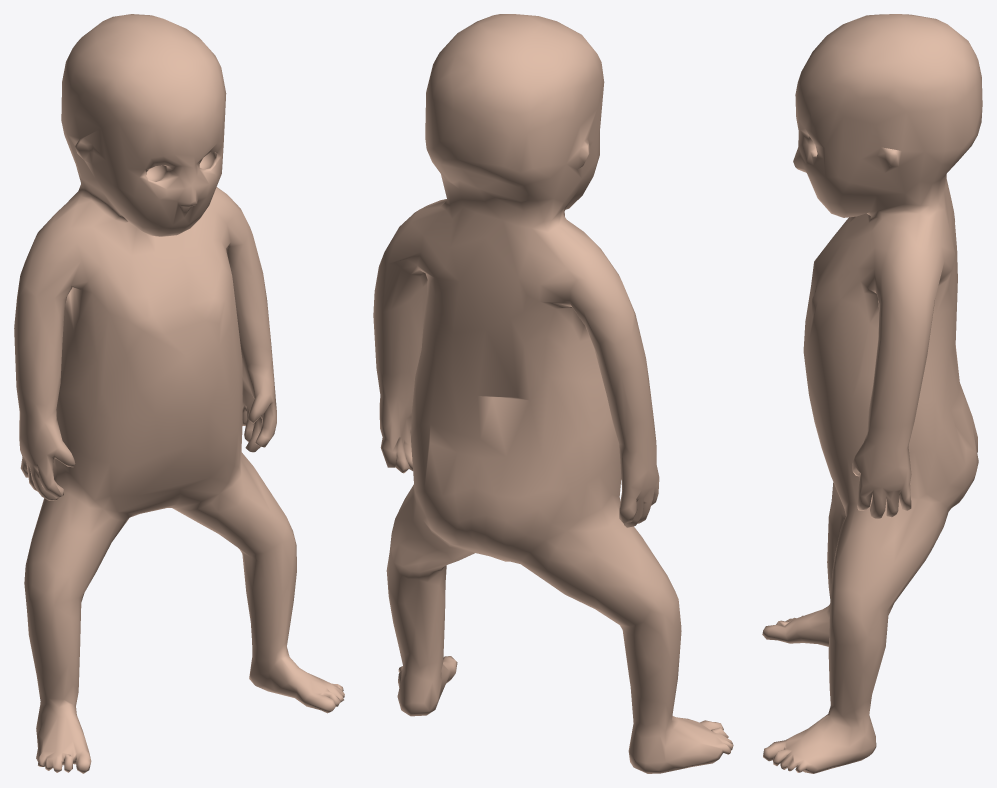
Rendered from pediatric_neonate_female.surface.LOD3.glb.
3 renders of one model, left to right at view 1: azimuth 30°, elevation 25°; view 2: azimuth 150°, elevation 25°; view 3: azimuth 270°, elevation 25°, orthographic. The views are drawn at different scales.
Visible parts, largest first — view 1: PEDIATRIC.NEONATE.FEMALE.SURFACE.SKIN; view 2: PEDIATRIC.NEONATE.FEMALE.SURFACE.SKIN; view 3: PEDIATRIC.NEONATE.FEMALE.SURFACE.SKIN.
Boxes of the visible parts, <box> form: PEDIATRIC.NEONATE.FEMALE.SURFACE.SKIN: <box>14,14,344,773</box>; PEDIATRIC.NEONATE.FEMALE.SURFACE.SKIN: <box>373,14,733,773</box>; PEDIATRIC.NEONATE.FEMALE.SURFACE.SKIN: <box>762,14,982,773</box>.
Size of the model in its own units: 0.2281 by 0.4819 by 0.1407.
